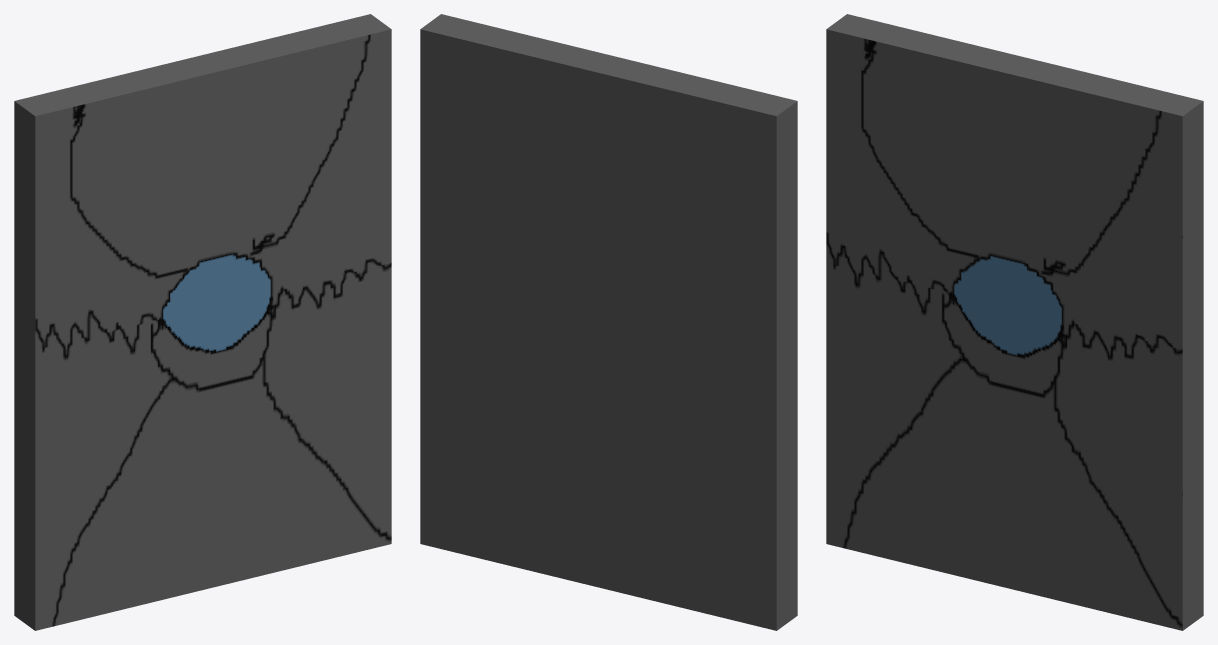
Rendered from PuzzleDoor.fbx.
The picture shows the model from 3 angles, left to right: view 1: azimuth 30°, elevation 25°; view 2: azimuth 150°, elevation 25°; view 3: azimuth 330°, elevation 25°; orthographic projection.
Parts seen in each view (by area): view 1: Cube.001, Cube; view 2: Cube.001, Cube; view 3: Cube.001, Cube.
Part boxes in pixels (box(x1,y1,x2,y2)): Cube.001: box(14, 263, 391, 630); Cube: box(14, 14, 391, 349); Cube.001: box(420, 261, 797, 630); Cube: box(420, 14, 797, 349); Cube.001: box(826, 263, 1203, 630); Cube: box(826, 14, 1203, 349).
Bounding box in the file's own units: 419 × 578 × 42.58.
